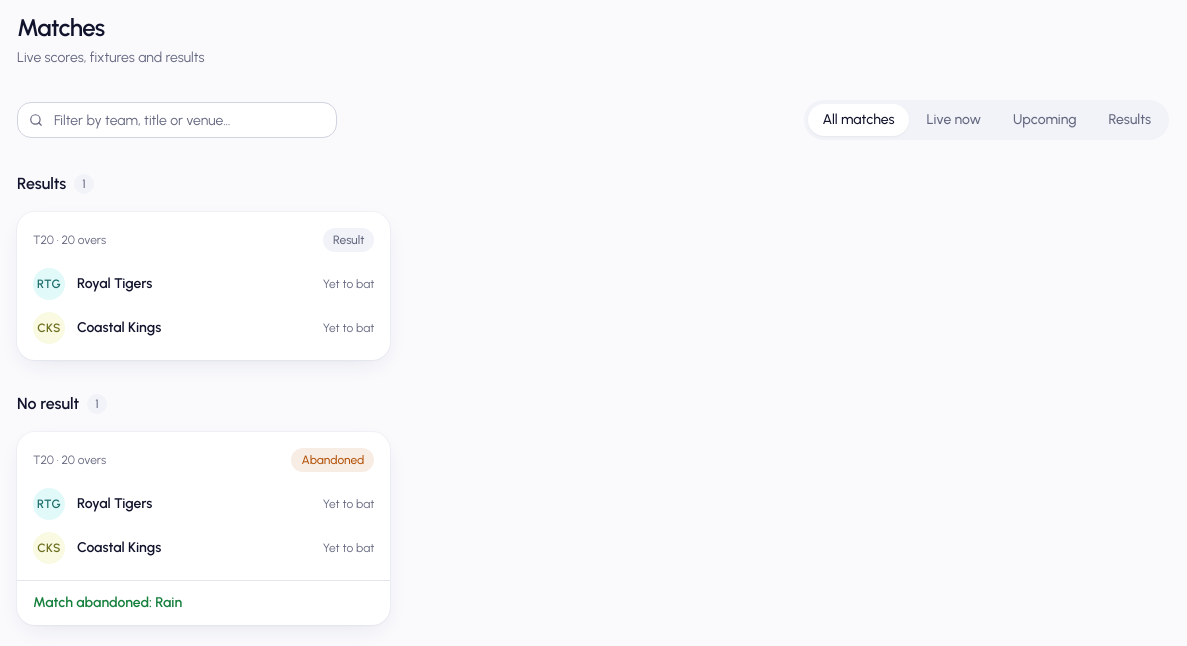
Matches list › points a filter with no match to the search of all matches
This screenshot has width=1187, height=646.
Type "Rovers" into the field named "Filter these matches".
click(177, 120); type("Rovers")  # box left=17, top=102, right=337, bottom=138
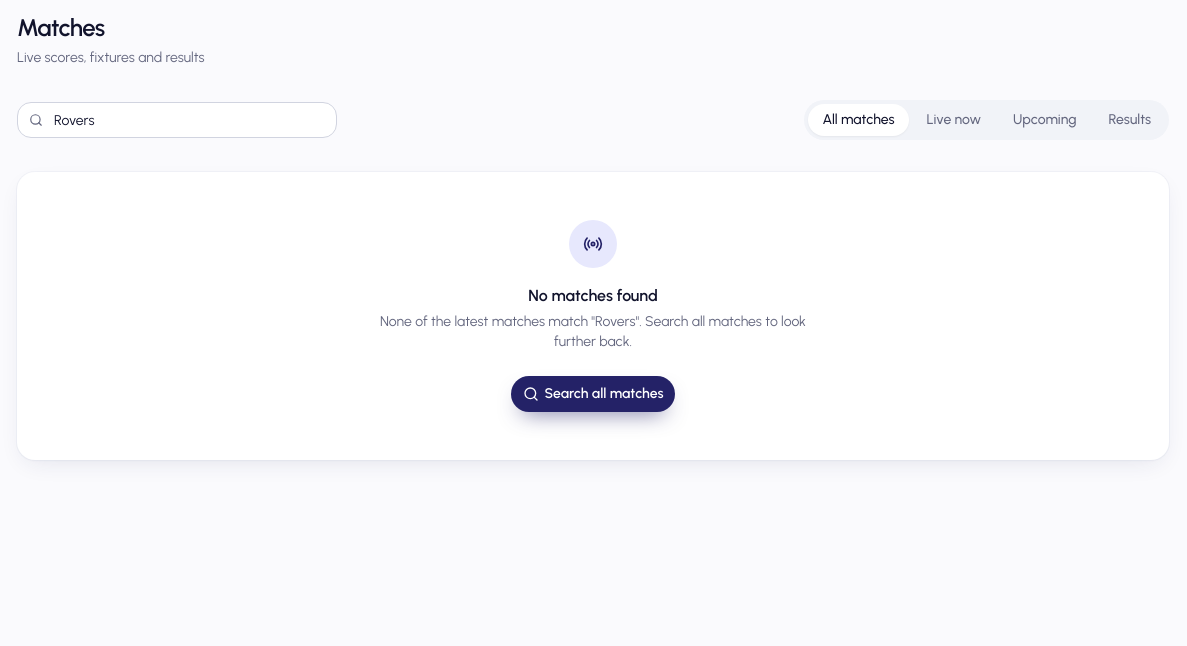
Expected: the text "None of the latest matches match \"Rovers\"" is shown, left=380, top=313, right=806, bottom=350
